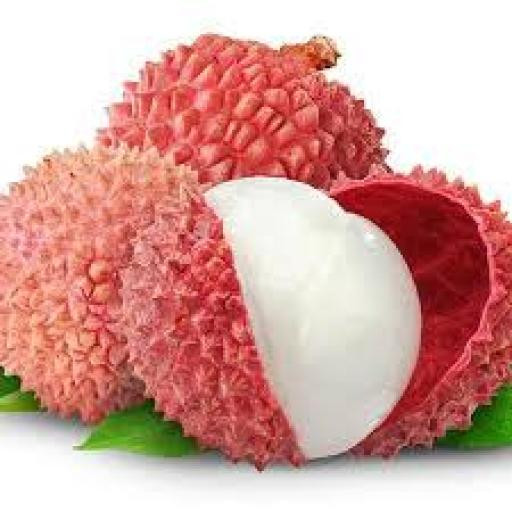lychee: (121, 178, 420, 466), (0, 148, 193, 423), (333, 169, 511, 455), (98, 35, 386, 188)
